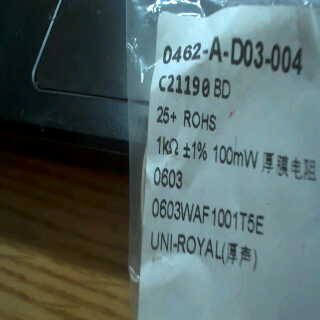1kR: (154, 131, 181, 159)
